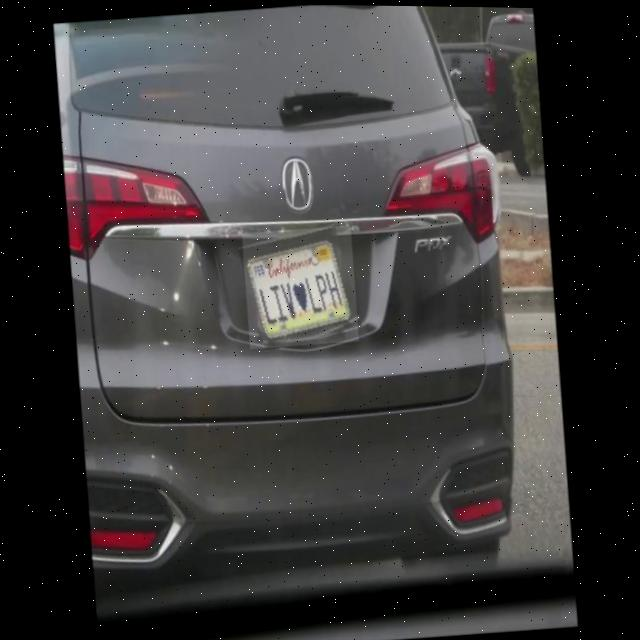LicensePlate: (240, 222, 361, 349)
